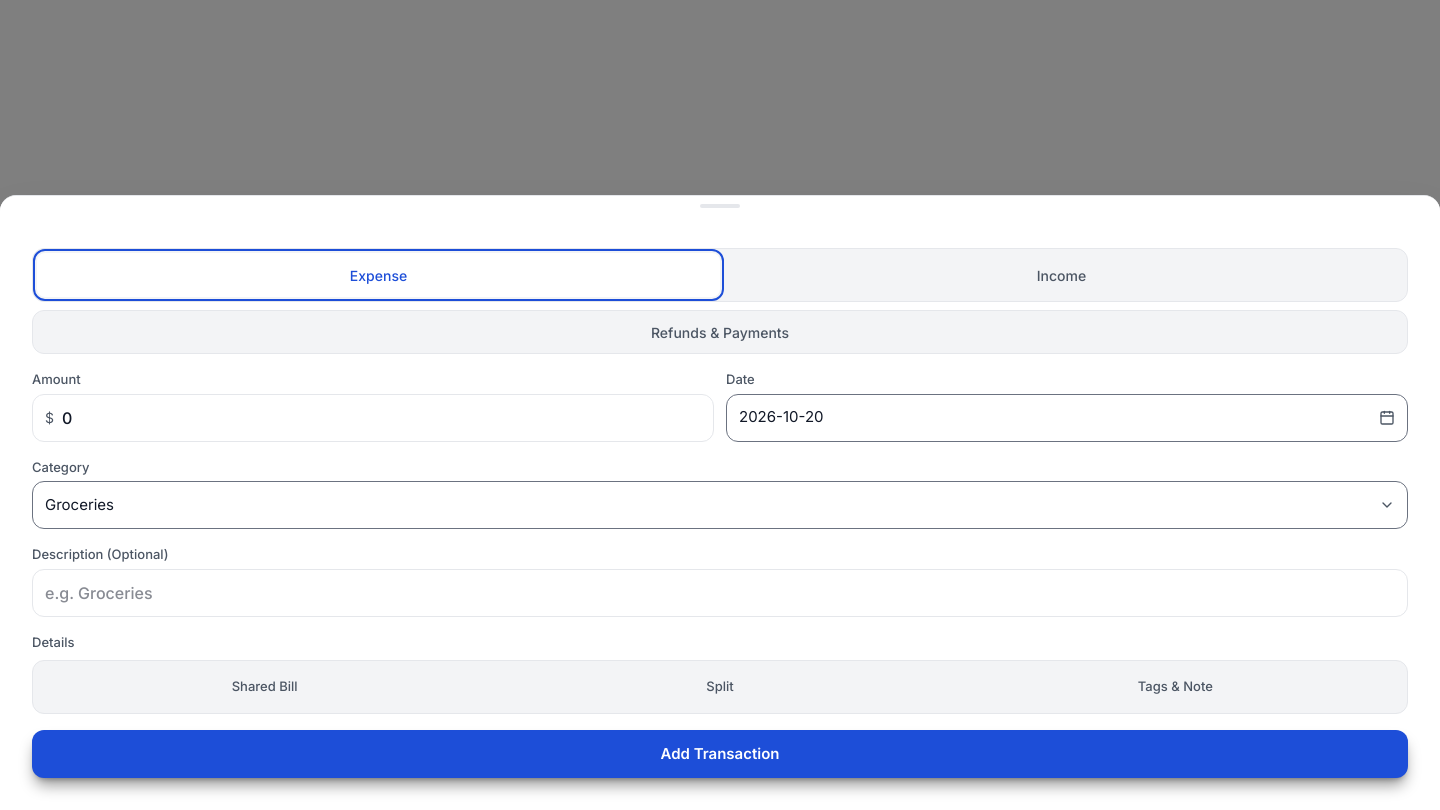
TransactionModal on a phone › keeps the Refunds & Payments explanation and hides the Shared Bill tab but keeps Split
Replace the text in the field labelled "Amount" with "40" at (382, 418), box [62,406,701,430]
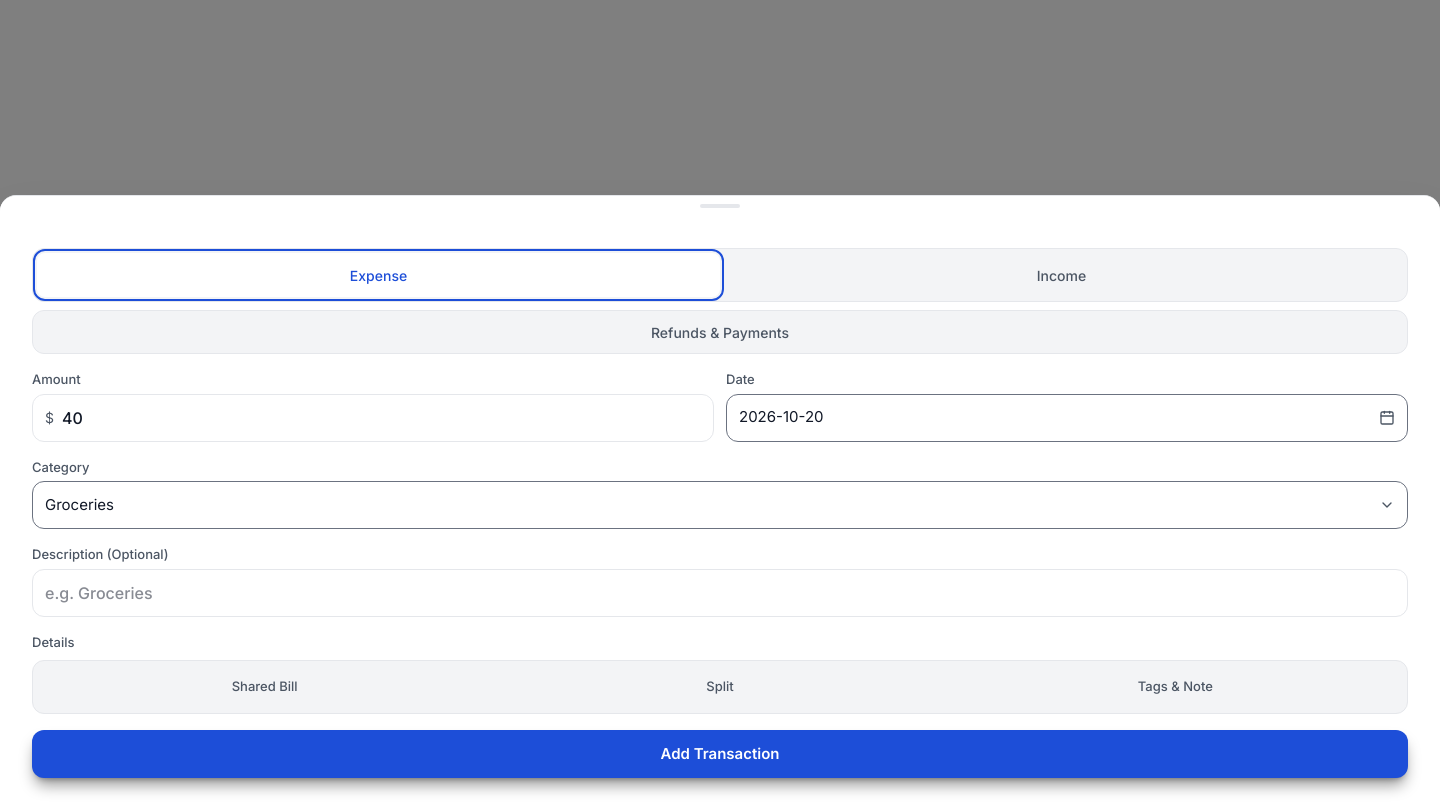
Click the button "Refunds & Payments" at (720, 332), box [32,310,1408,354]
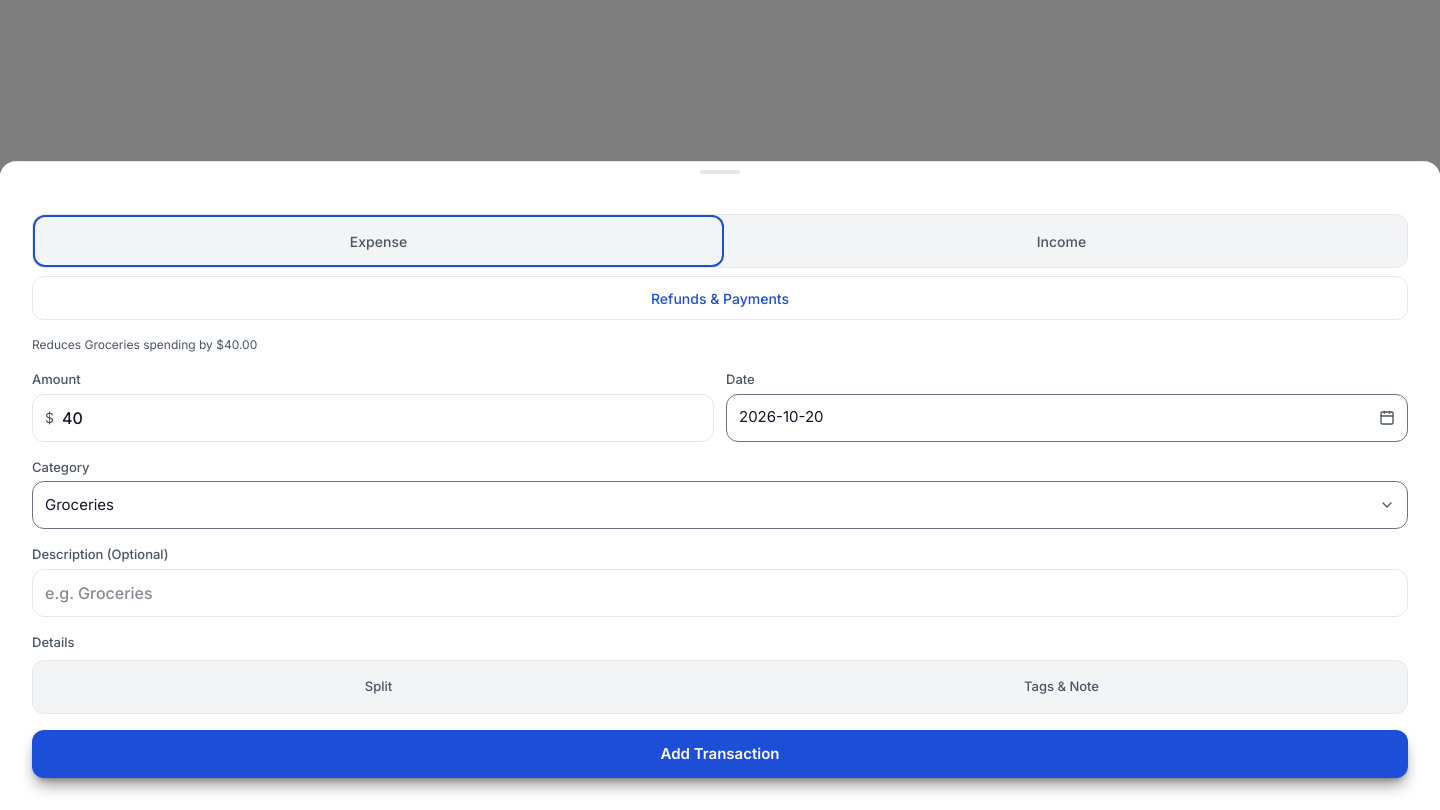
Expected: the button "Split" is shown, [37,665,720,709]
Now the text "Reduces Groceries spending by $40.00" is shown, box [32,337,257,352]
Now the button "Shared Bill" is gone
